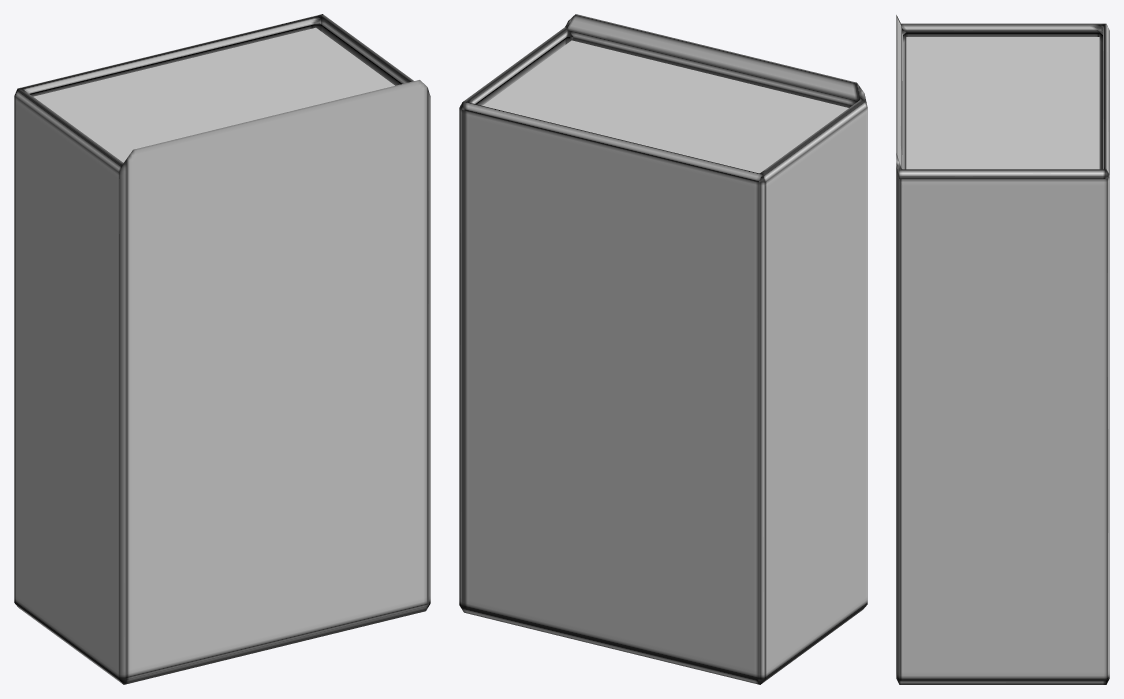
Rendered from box-hangar.fbx.
3 renders of one model, left to right at view 1: azimuth 30°, elevation 25°; view 2: azimuth 150°, elevation 25°; view 3: azimuth 270°, elevation 25°, orthographic.
Parts seen in each view (by area): view 1: hangar1, hangar_space; view 2: hangar1, hangar_space; view 3: hangar1, hangar_space.
Part boxes in pixels (bbox=[...]): hangar1: bbox=[14, 14, 430, 684]; hangar_space: bbox=[33, 27, 394, 162]; hangar1: bbox=[459, 14, 867, 684]; hangar_space: bbox=[482, 40, 848, 173]; hangar1: bbox=[896, 15, 1109, 684]; hangar_space: bbox=[906, 37, 1099, 169].
Size of what is drawn, in the model's own units: 3.75 by 6.15 by 2.25.
Materials: 2 (1 with a texture image).
